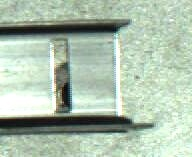40ngpress: (16, 20, 145, 131)
